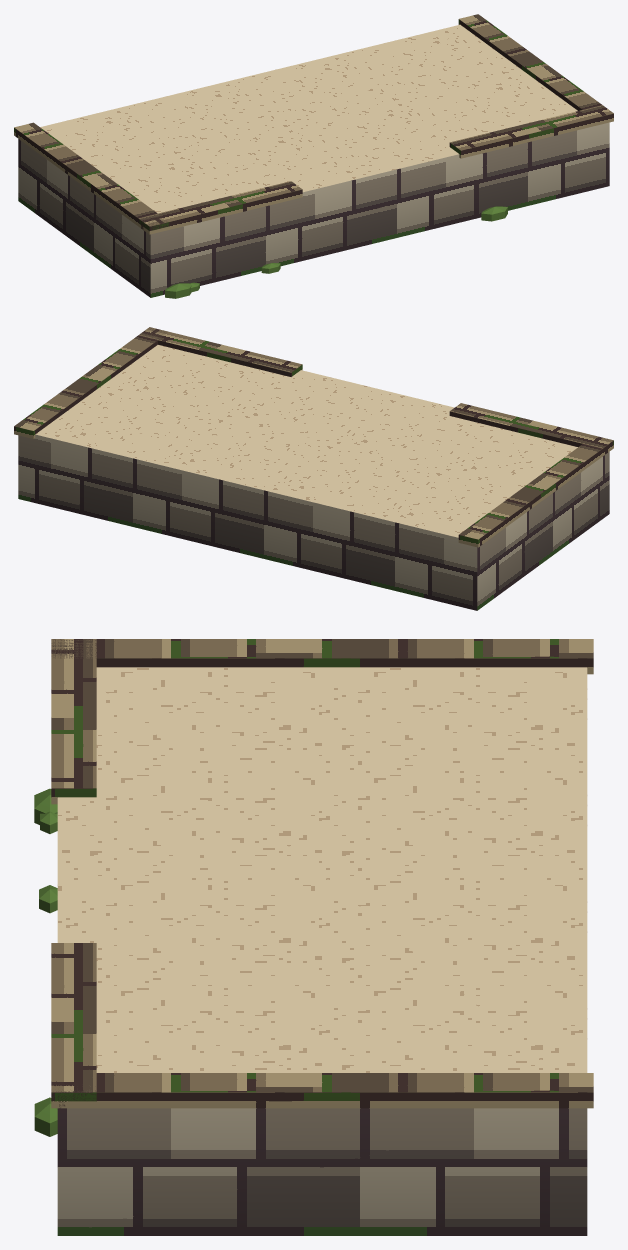
Rendered from scene_hall_terrace.glb.
3 renders of one model, top to bottom at view 1: azimuth 30°, elevation 25°; view 2: azimuth 150°, elevation 25°; view 3: azimuth 270°, elevation 25°, orthographic. The views are drawn at different scales.
Parts seen in each view (by area): view 1: scene_hall_terrace; view 2: scene_hall_terrace; view 3: scene_hall_terrace.
Boxes of the visible parts, x1=… form: scene_hall_terrace: x1=14, y1=14, x2=613, y2=298; scene_hall_terrace: x1=14, y1=327, x2=613, y2=610; scene_hall_terrace: x1=34, y1=639, x2=593, y2=1235.
Bounding box in the file's own units: 8.5 × 1.36 × 4.43.
3 materials, 2 textured.
